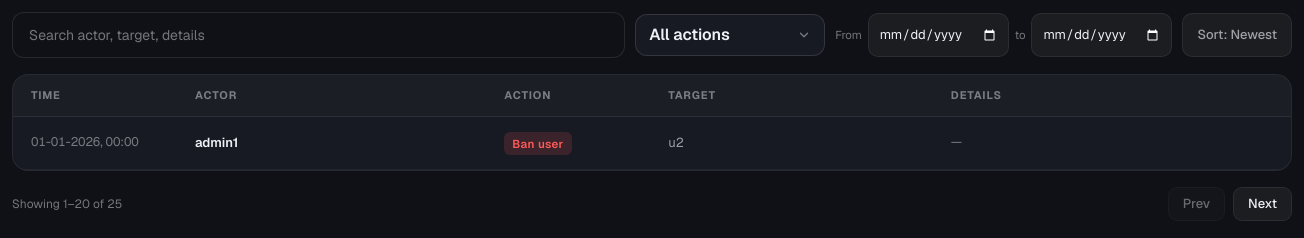
Test: LogsTab › pages forward with Next and back with Prev
This screenshot has width=1304, height=238.
Expected: the text "admin1" is shown, [195,134,238,151]
Expected: the button "Prev" is disabled, [1168,186,1225,220]
Click the button "Next" at point(1263, 204), box [1233,186,1292,220]
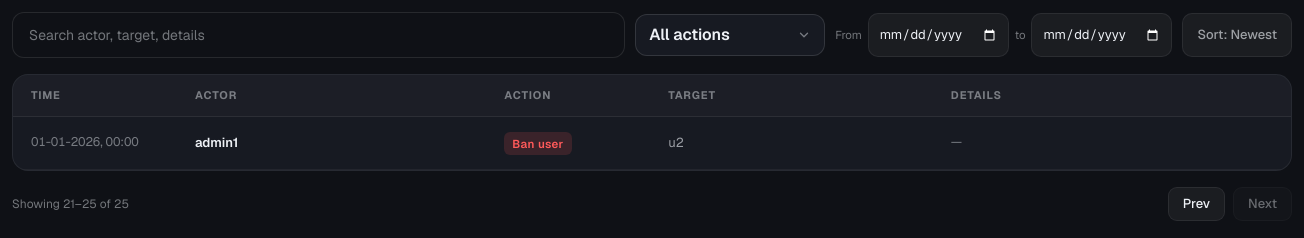
Click the button "Prev" at point(1196, 204), box [1168,186,1225,220]
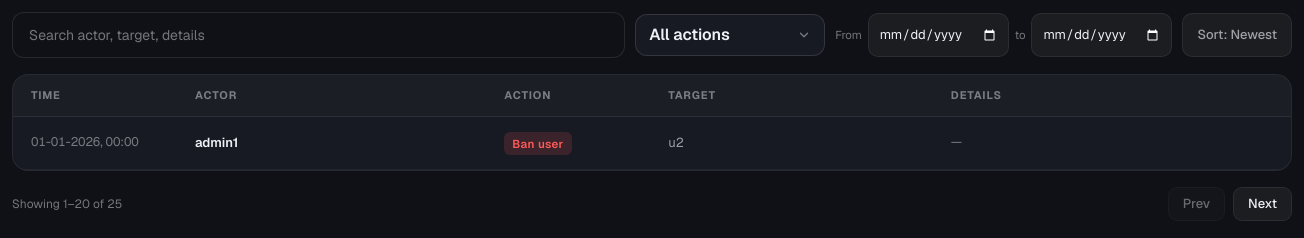
Expected: the button "Prev" is disabled, [1168,186,1225,220]
Expected: the text "Showing 1–20 of 25" is shown, [12,196,122,212]
